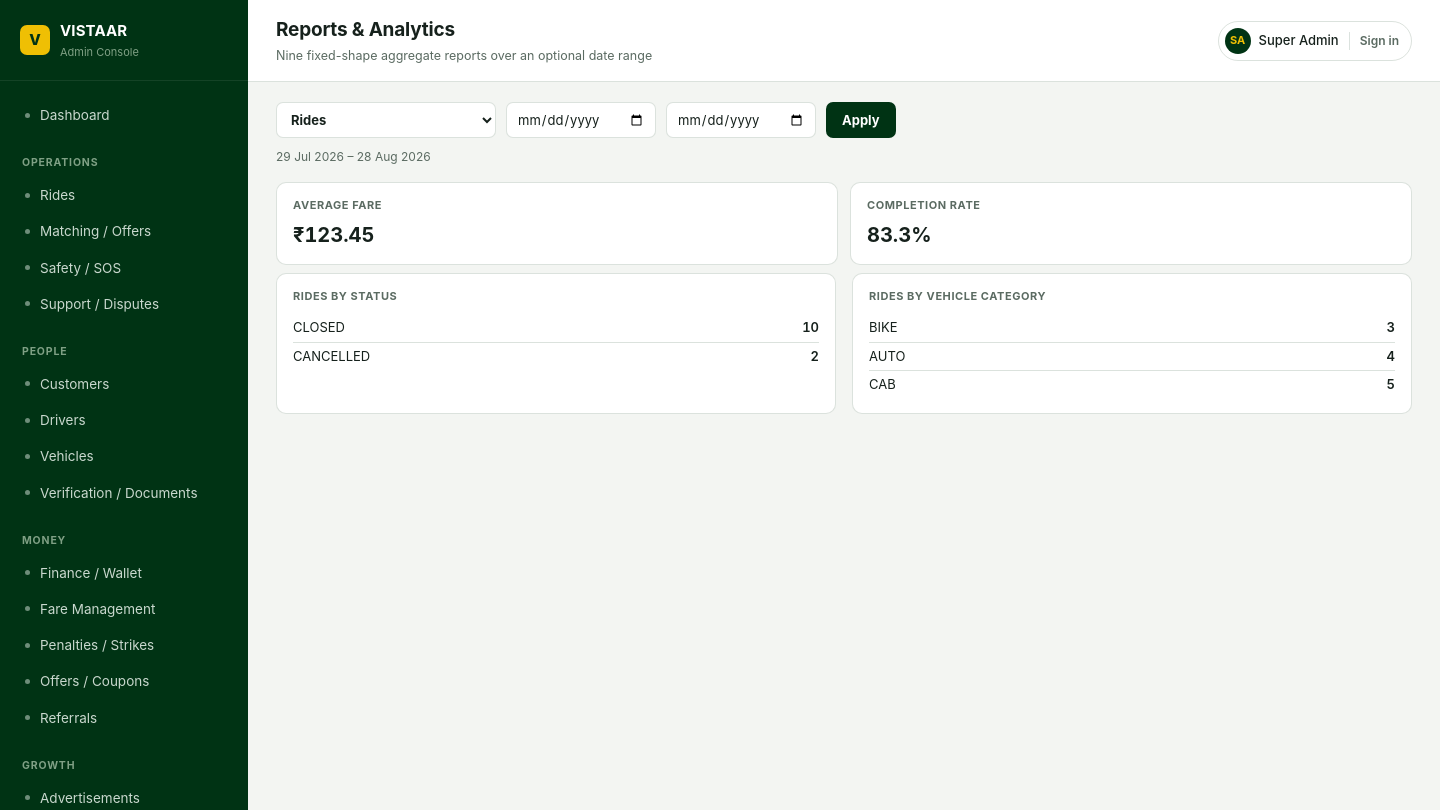
ReportsPage › switches to the Customers report and fetches its data
The width and height of the screenshot is (1440, 810).
expect the text "Completion rate" is shown: met, box [867,198,980,212]
Select "Customers" in the dropdown named "Select report" at (386, 120), box [276,102,496,138]
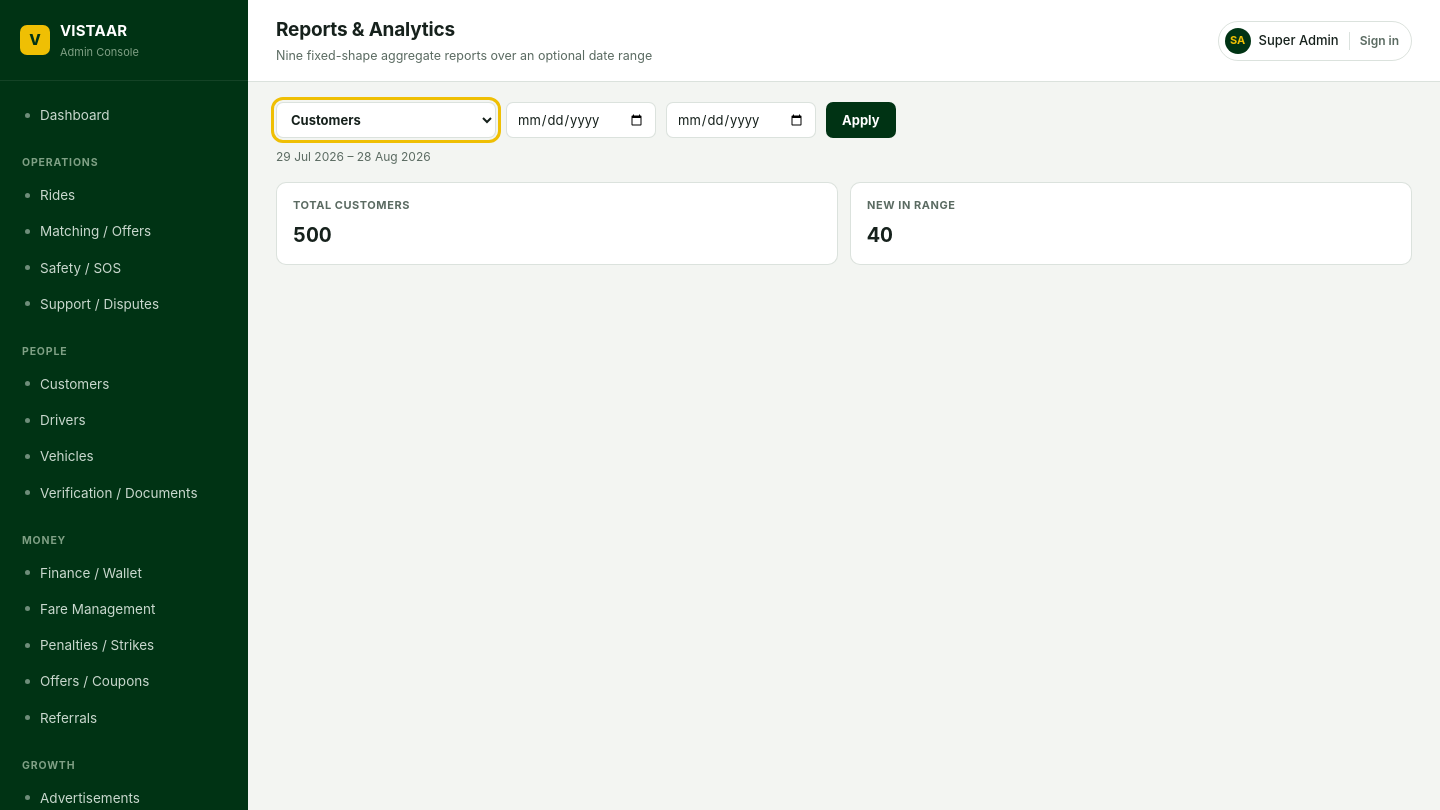
expect the text "Total customers" is shown: met, box [293,198,410,212]
expect the text "500" is shown: met, box [293,223,332,247]
